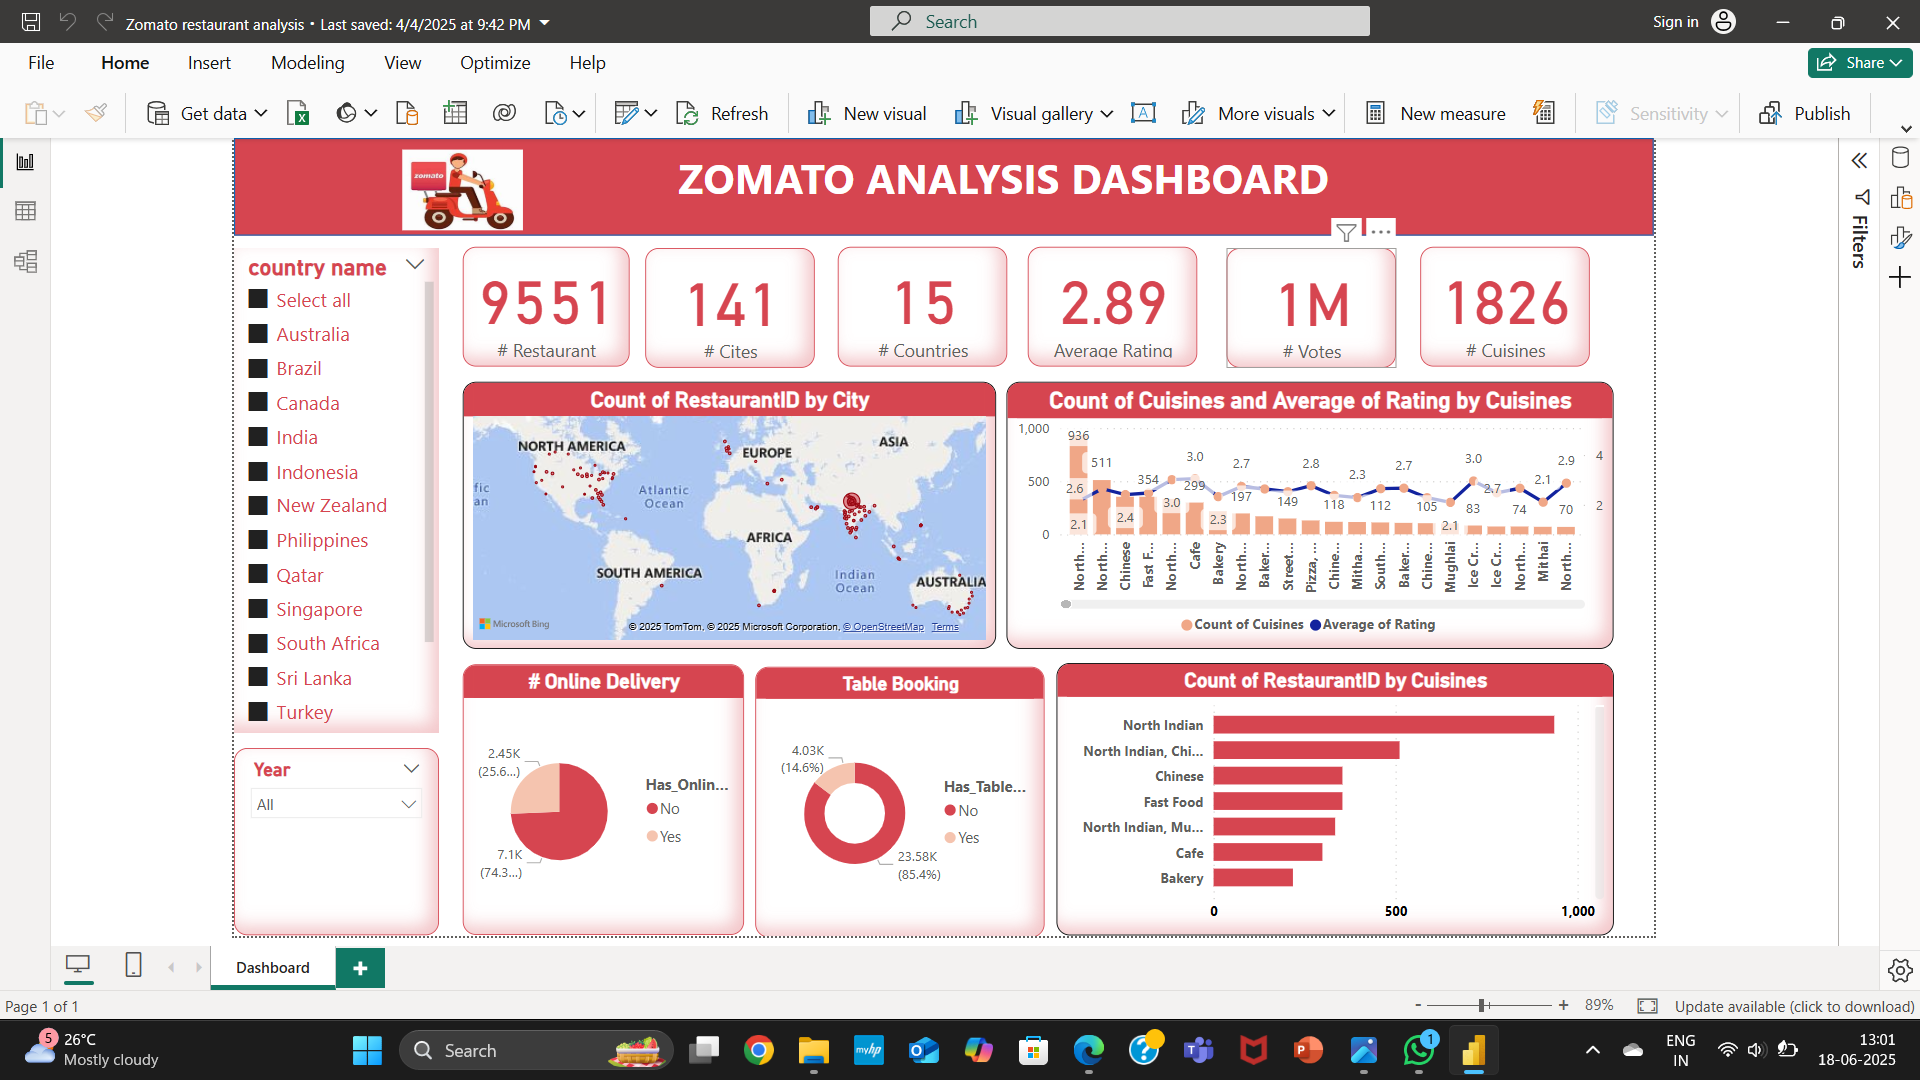

This screenshot's page, from the dashboard's own definition file:
{"tool":"powerbi","page":{"name":"Dashboard","canvas":[1280,720],"ordinal":0},"visuals":[{"type":"shape","box":[0,0,1279.7,88],"z":0},{"type":"textbox","box":[242.4,5.8,903.2,79.4],"z":1000},{"type":"image","box":[103.9,5.8,204.9,82.2],"z":2000},{"type":"card","fields":{"Values":["CountNonNull(countries.RestaurantID)"]},"box":[206.3,98.1,150,108.2],"z":3000},{"type":"card","fields":{"Values":["Count(countries.City)"]},"box":[370.8,99.6,152.9,108.2],"z":4000},{"type":"card","fields":{"Values":["Count(countries.CountryCode)"]},"box":[543.9,98.1,152.9,108.2],"z":5000},{"type":"card","fields":{"Values":["Avg(countries.Rating)"]},"box":[715.6,98.1,152.9,108.2],"z":6000},{"type":"card","fields":{"Values":["Sum(countries.Votes)"]},"box":[894.5,99.6,152.9,108.2],"z":7000},{"type":"card","fields":{"Values":["Count(countries.Cuisines)"]},"box":[1069.1,98.1,152.9,108.2],"z":8000},{"type":"slicer","fields":{"Values":["restaurants.country name"]},"box":[0,99.6,184.7,437.2],"z":9000},{"type":"lineStackedColumnComboChart","fields":{"Y":["CountNonNull(countries.Cuisines)"],"Y2":["Avg(countries.Rating)"],"Category":["countries.Cuisines"]},"box":[696.9,219.3,546.8,240.9],"z":10000},{"type":"map","fields":{"Category":["countries.City"],"Size":["CountNonNull(countries.RestaurantID)"]},"box":[206.3,219.3,480.4,240.9],"z":11000},{"type":"clusteredBarChart","fields":{"Category":["countries.Cuisines"],"Y":["CountNonNull(countries.RestaurantID)"]},"box":[741.6,473.2,502.1,245.3],"z":12000},{"type":"pieChart","title":"#  Online Delivery","fields":{"Category":["countries.Has_Online_delivery"],"Y":["CountNonNull(countries.RestaurantID)"]},"box":[206.3,474.7,253.9,243.8],"z":13000},{"type":"donutChart","title":"Table Booking","fields":{"Category":["countries.Has_Table_booking"],"Y":["Sum(countries.Rating)"]},"box":[470.3,476.1,261.1,243.8],"z":14000},{"type":"slicer","fields":{"Values":["countries.Datekey_Opening.Variation.Date Hierarchy.Year"]},"box":[0,549.7,184.7,168.8],"z":15000}]}

Visuals, with their boxes on the page's 1280x720 design canvas (x1, y1, x2, y2). These are canvas units, not pixel positions in the 1920x1080 screenshot, which may show the page scaled, cropped or inside an application window:
shape: select_region(0, 0, 1280, 88)
textbox: select_region(242, 6, 1146, 85)
image: select_region(104, 6, 309, 88)
card - CountNonNull(countries.RestaurantID): select_region(206, 98, 356, 206)
card - Count(countries.City): select_region(371, 100, 524, 208)
card - Count(countries.CountryCode): select_region(544, 98, 697, 206)
card - Avg(countries.Rating): select_region(716, 98, 868, 206)
card - Sum(countries.Votes): select_region(894, 100, 1047, 208)
card - Count(countries.Cuisines): select_region(1069, 98, 1222, 206)
slicer - restaurants.country name: select_region(0, 100, 185, 537)
lineStackedColumnComboChart - CountNonNull(countries.Cuisines) x Avg(countries.Rating): select_region(697, 219, 1244, 460)
map - countries.City x CountNonNull(countries.RestaurantID): select_region(206, 219, 687, 460)
clusteredBarChart - countries.Cuisines x CountNonNull(countries.RestaurantID): select_region(742, 473, 1244, 718)
"#  Online Delivery" pieChart: select_region(206, 475, 460, 718)
"Table Booking" donutChart: select_region(470, 476, 731, 720)
slicer - countries.Datekey_Opening.Variation.Date Hierarchy.Year: select_region(0, 550, 185, 718)
